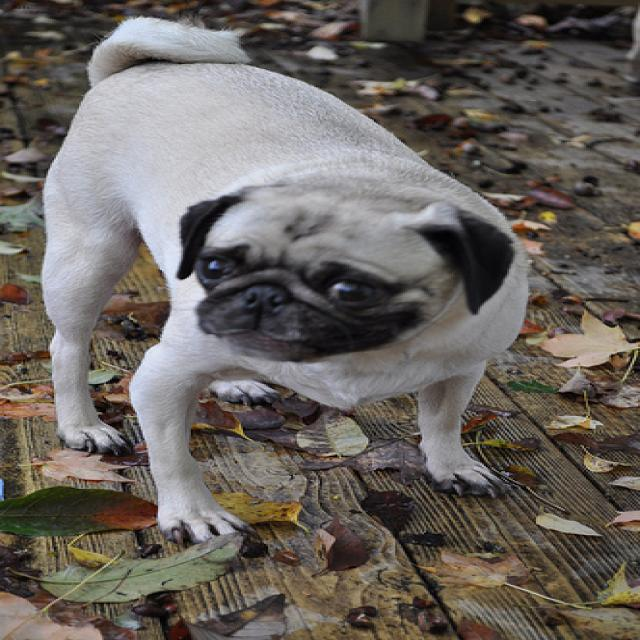dog-pug: (25, 8, 538, 548)
